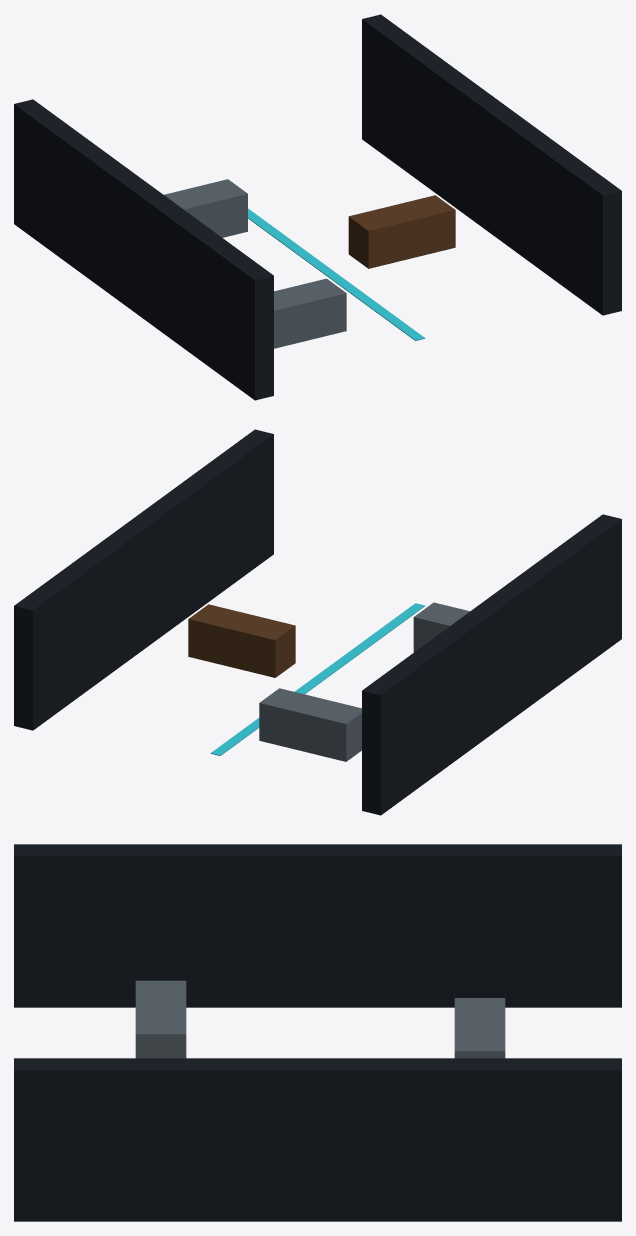
Rendered from module.cover_to_cover_push.glb.
The picture shows the model from 3 angles, top to bottom: view 1: azimuth 30°, elevation 25°; view 2: azimuth 150°, elevation 25°; view 3: azimuth 270°, elevation 25°; orthographic projection. The views are drawn at different scales.
Parts seen in each view (by area): view 1: left_wall, right_wall, cover_two, cover_one, cover_three, push_arrow; view 2: left_wall, right_wall, cover_two, cover_three, push_arrow, cover_one; view 3: right_wall, left_wall, cover_one, cover_three.
Boxes of the visible parts, left/top/right/bottom form: left_wall: left=14, top=99, right=273, bottom=400; right_wall: left=362, top=14, right=621, bottom=315; cover_two: left=348, top=195, right=455, bottom=268; cover_one: left=274, top=278, right=346, bottom=348; cover_three: left=164, top=179, right=247, bottom=237; push_arrow: left=248, top=208, right=425, bottom=340; left_wall: left=362, top=514, right=621, bottom=815; right_wall: left=14, top=429, right=273, bottom=730; cover_two: left=188, top=604, right=295, bottom=677; cover_three: left=259, top=688, right=361, bottom=761; push_arrow: left=210, top=603, right=425, bottom=755; cover_one: left=413, top=602, right=469, bottom=652; right_wall: left=14, top=1058, right=621, bottom=1221; left_wall: left=14, top=844, right=621, bottom=1007; cover_one: left=135, top=980, right=186, bottom=1058; cover_three: left=454, top=998, right=505, bottom=1058.
Bounding box in the file's own units: 10.55 × 3.3 × 12.
